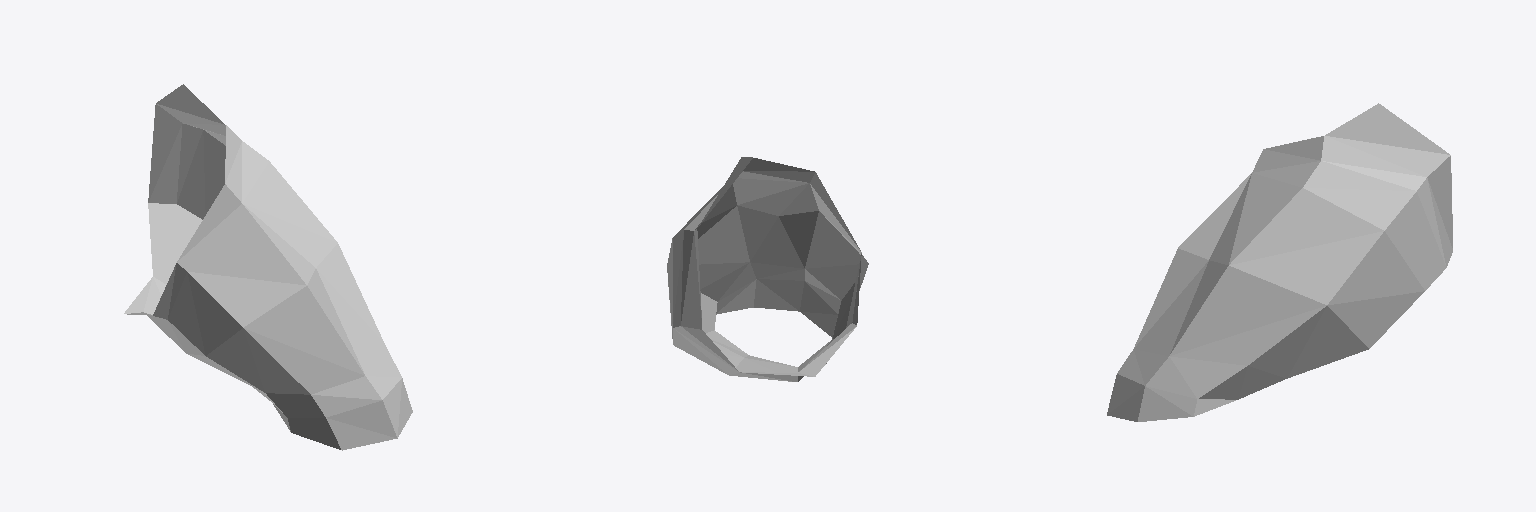
Rendered from MusloIzquierdo.obj.
The picture shows the model from 3 angles: view 1: azimuth 30°, elevation 25°; view 2: azimuth 150°, elevation 25°; view 3: azimuth 270°, elevation 25°; orthographic projection.
Visible parts, largest first — view 1: aca.004_aca.019; view 2: aca.004_aca.019; view 3: aca.004_aca.019.
Part boxes in pixels (bbox=[...]): aca.004_aca.019: bbox=[124, 84, 412, 450]; aca.004_aca.019: bbox=[667, 157, 868, 381]; aca.004_aca.019: bbox=[1107, 103, 1452, 421].
Size of the model in its own units: 0.4688 by 0.6578 by 0.731.